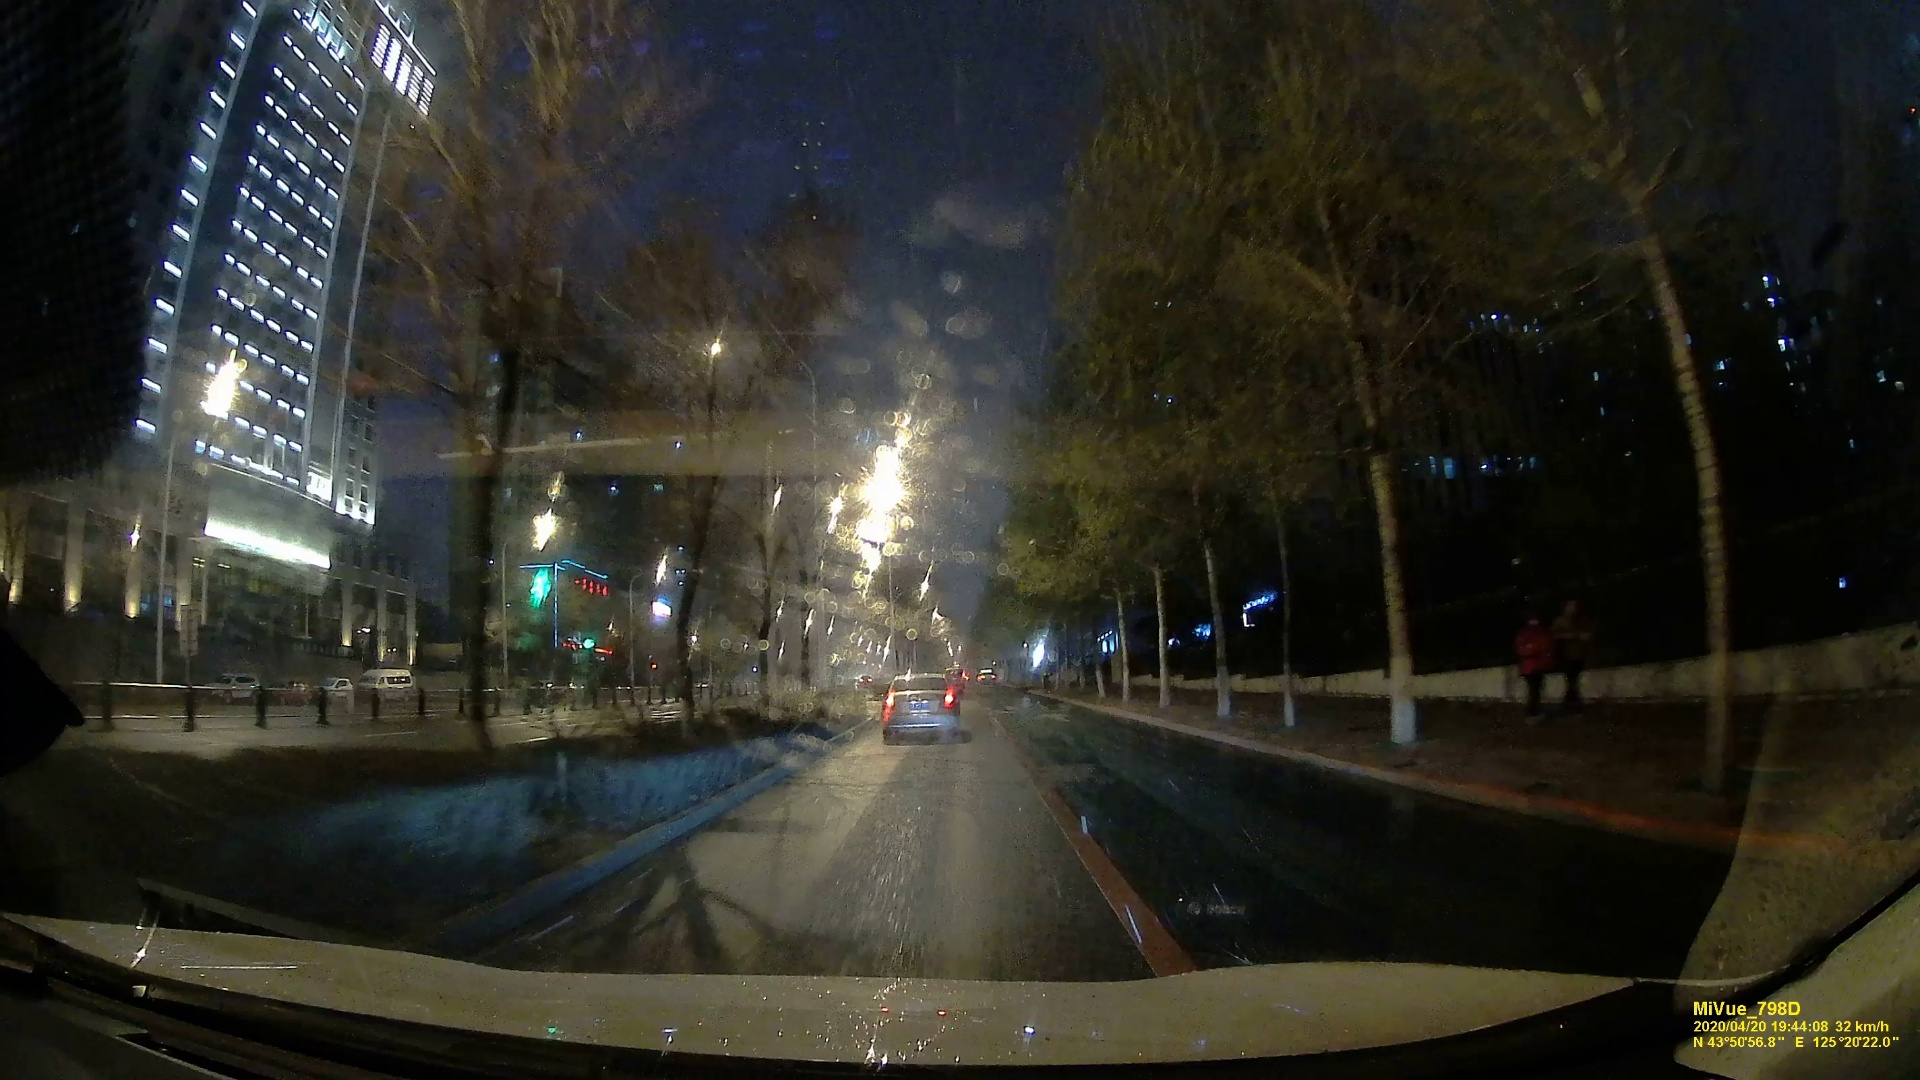minibus: (356, 669, 413, 703)
vehicle: (881, 670, 960, 742)
